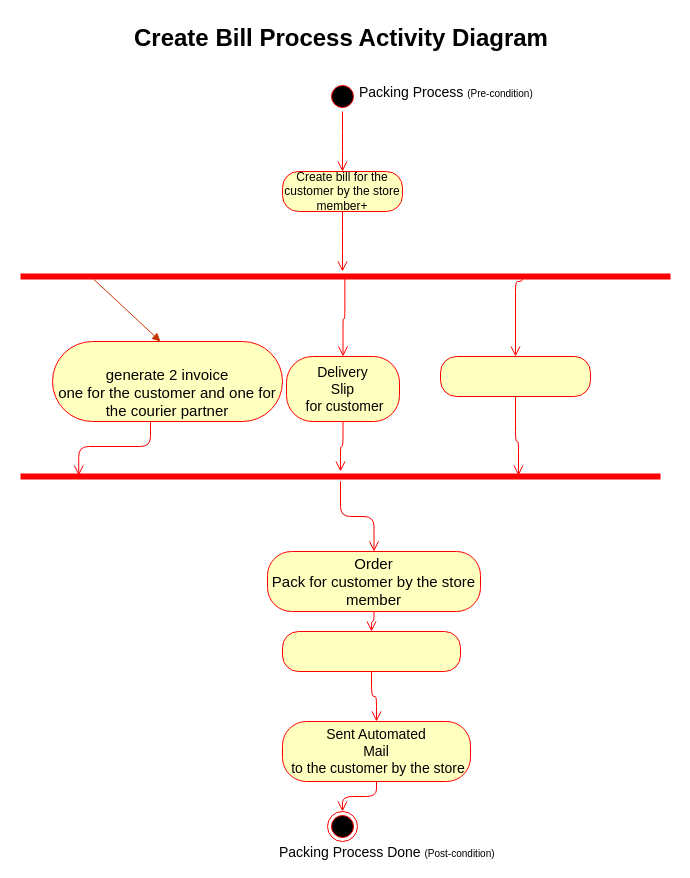
This 690x878 diagram has some shape labels left out. The centre of each missing label's shape, as x and y in pixels:
"Dispatch record for store member" goes at (x=515, y=376).
"Tracking Detail for customer" goes at (x=371, y=651).
